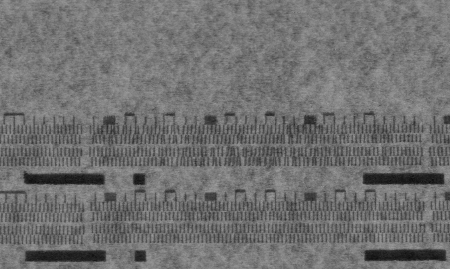Oblique printing: (86, 124, 395, 169)
